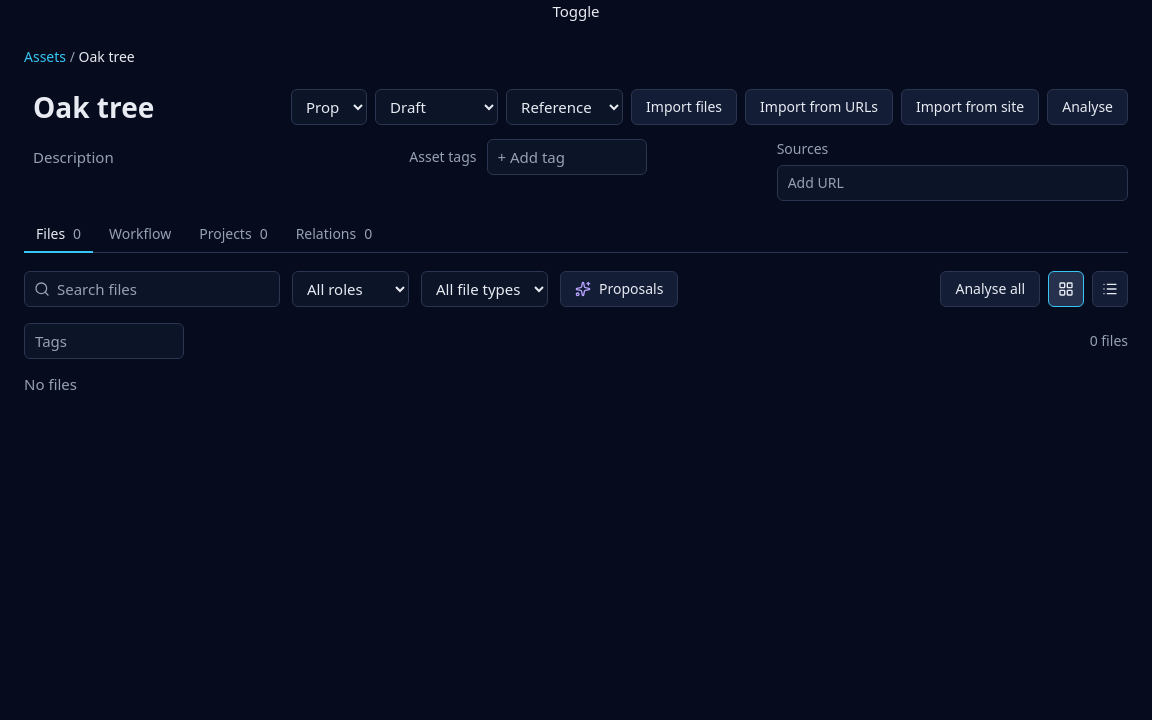
Test case: Import as file in the asset screen sends unpackArchives false
Click the button "Import files" at (684, 106), box [631,88,737,124]
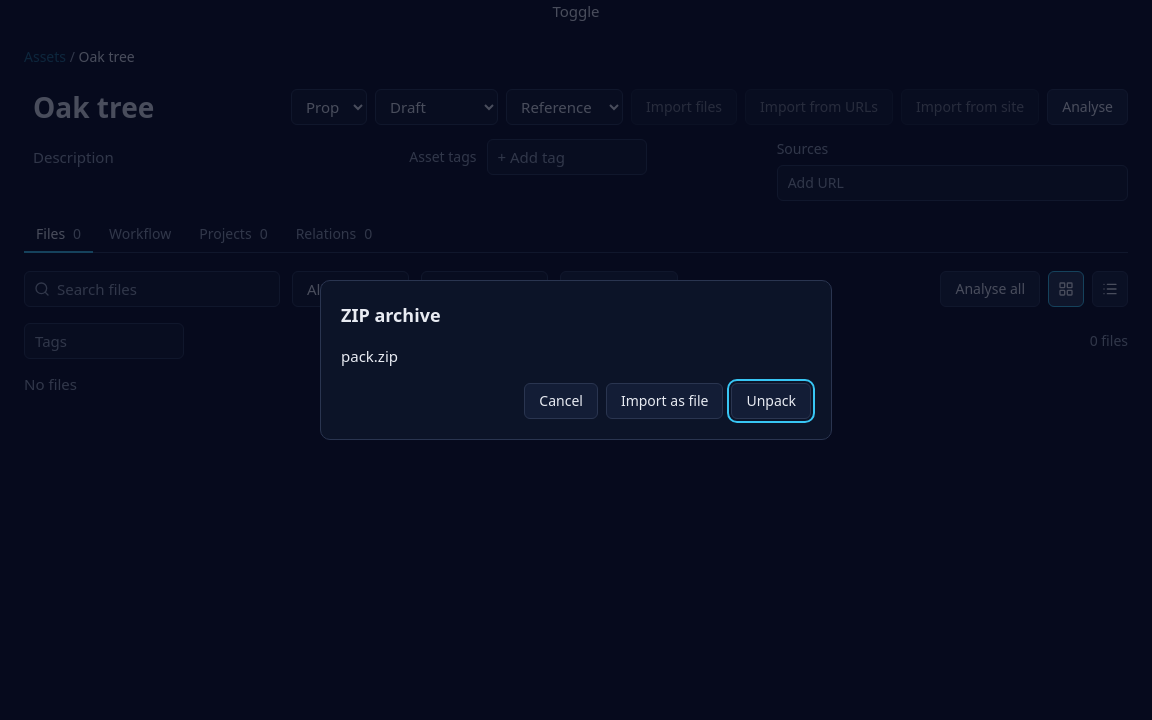
Click the button "Import as file" at (665, 401), box [606,383,723,419]
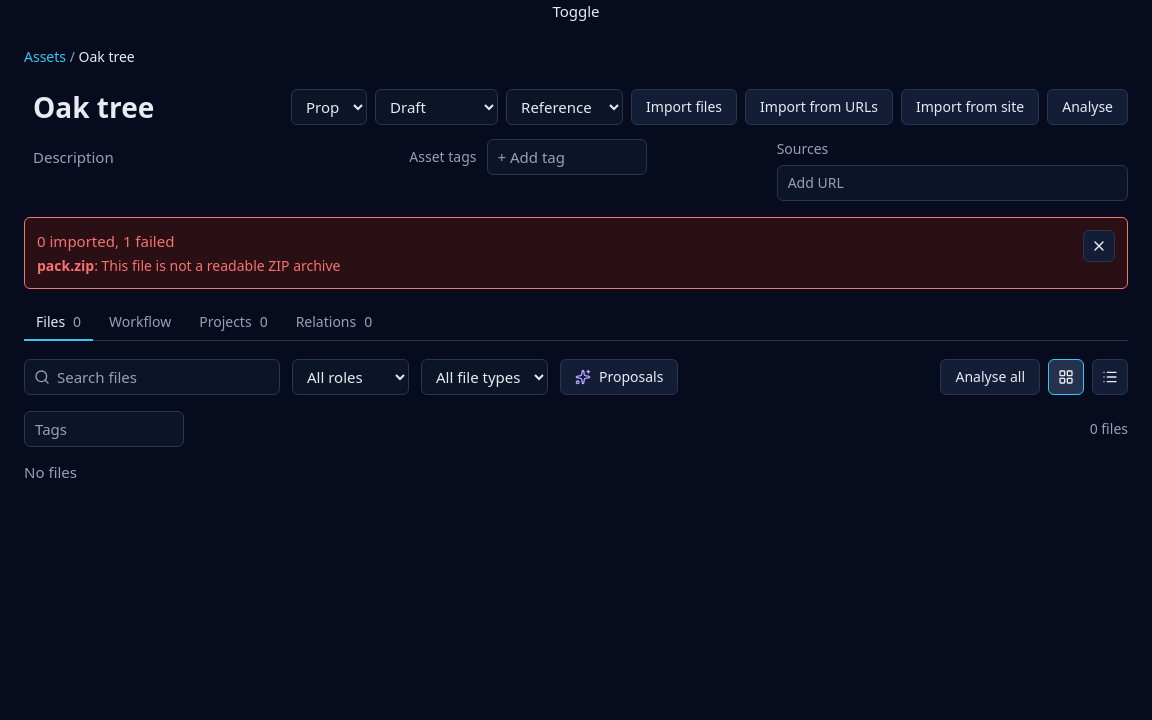
expect the text "pack.zip" is shown: met, box [37,256,94,275]
expect the text "0 imported, 1 failed" is shown: met, box [37,230,174,250]
